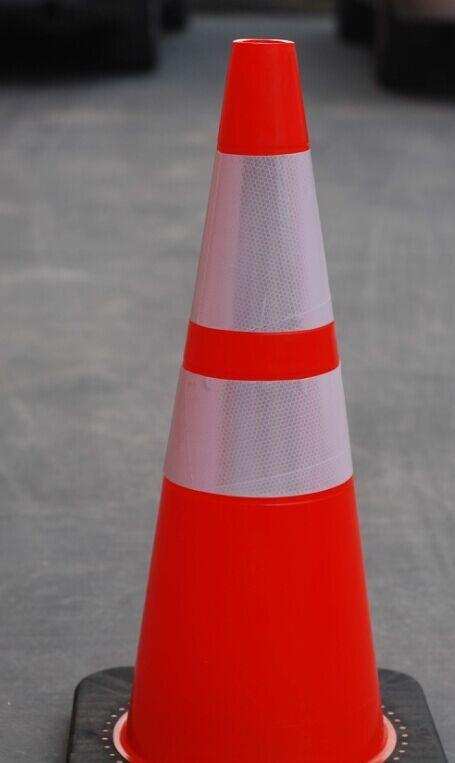cone_barrel: (124, 40, 382, 762)
